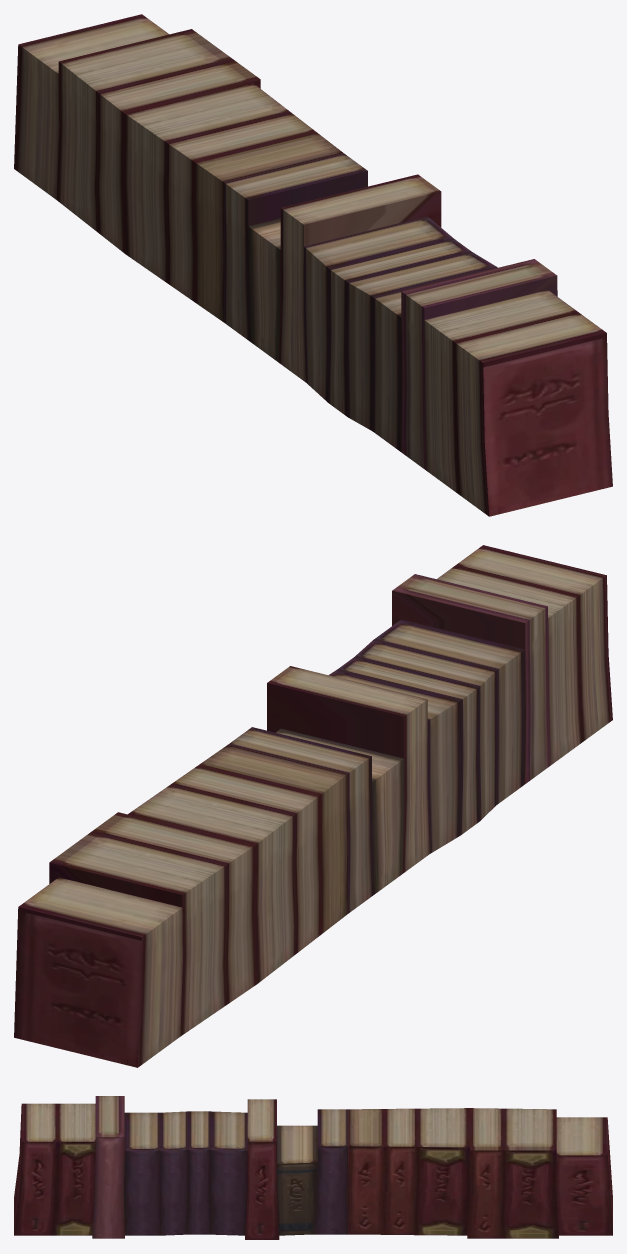
3 renders of one model, top to bottom at view 1: azimuth 30°, elevation 25°; view 2: azimuth 150°, elevation 25°; view 3: azimuth 270°, elevation 25°, orthographic. The views are drawn at different scales.
Bounding box in the file's own units: 0.4914 × 0.5346 × 2.86.
1 material, 1 textured.
